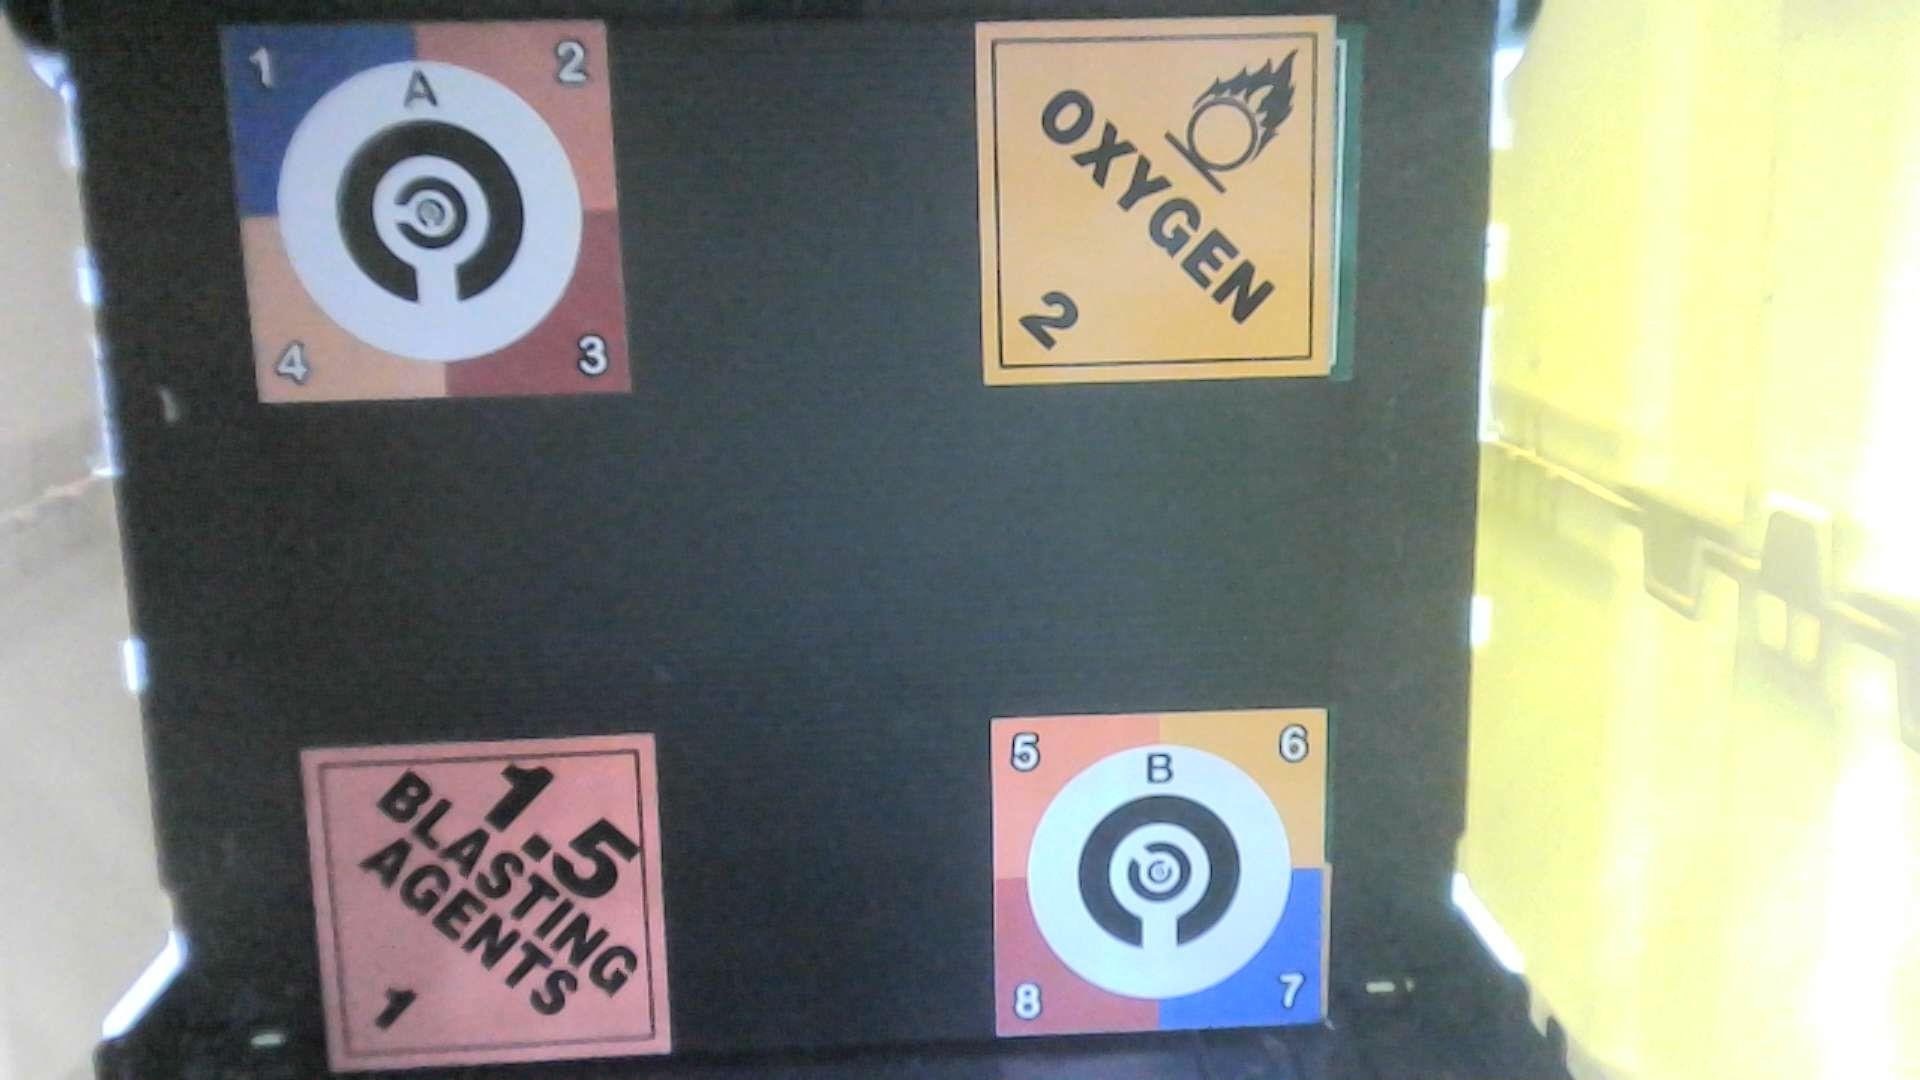explosive: (289, 713, 688, 1080)
oxidizer: (975, 18, 1336, 400)
